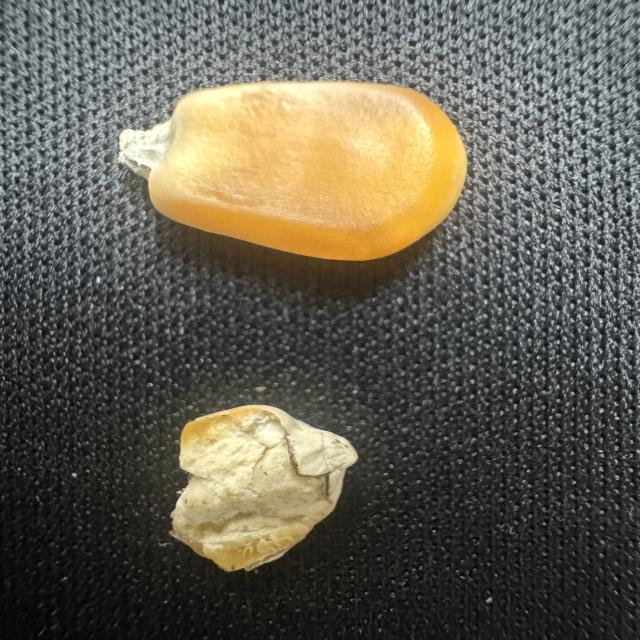Bad-Seed: (157, 400, 367, 587)
Good-Seed: (113, 72, 472, 259)
